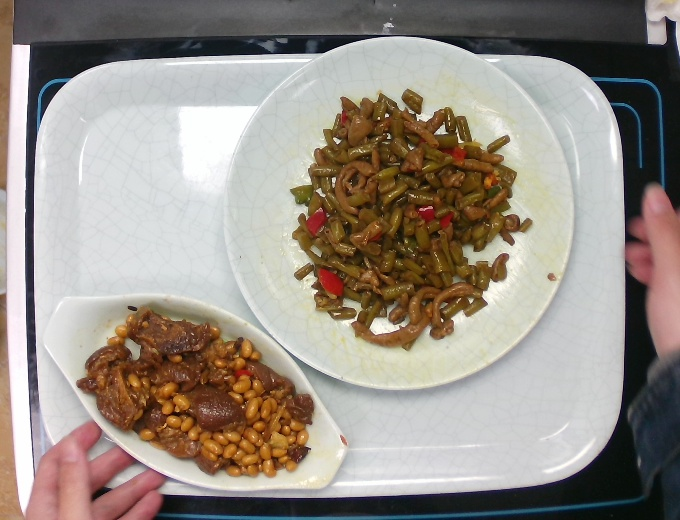JYsf-Da_Yuan_Pan: (220, 35, 576, 392)
JYsf-Yu_Pan: (39, 290, 350, 492)
